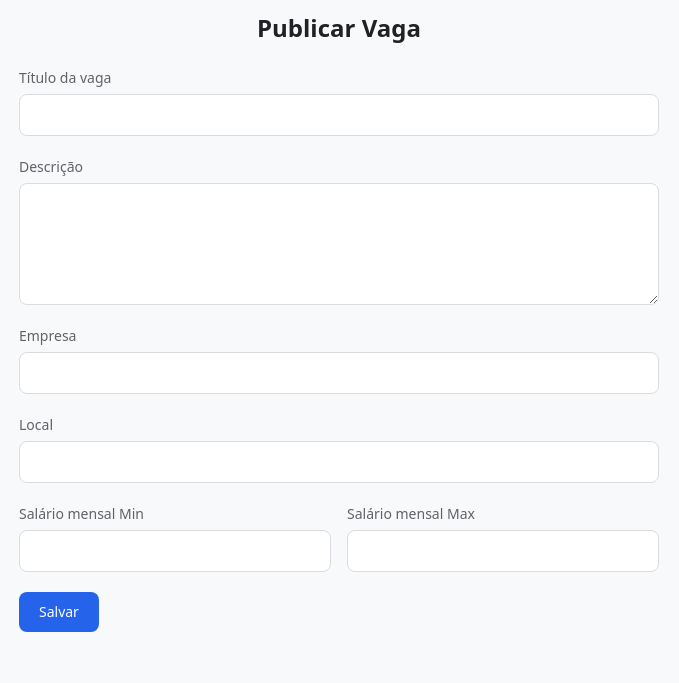
Test: JobForm › shows error when salary max <= min
Type "Dev" into the field labelled "Título da vaga".
click(339, 115); type("Dev")  # box x1=19 y1=94 x2=659 y2=136
Type "Uma descricao longa o suficiente" into the text box labelled "Descrição".
click(339, 244); type("Uma descricao longa o suficiente")  # box x1=19 y1=183 x2=659 y2=305
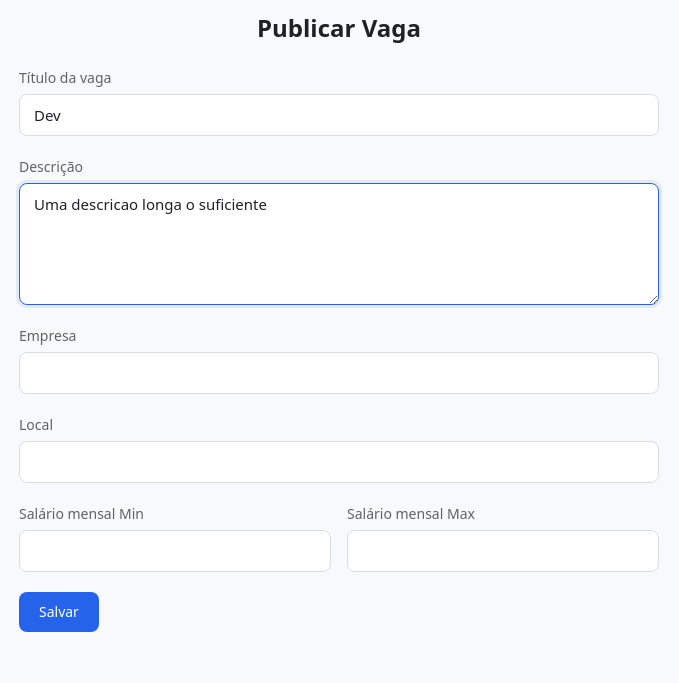
Type "Co" into the field labelled "Empresa".
click(339, 373); type("Co")  # box x1=19 y1=352 x2=659 y2=394
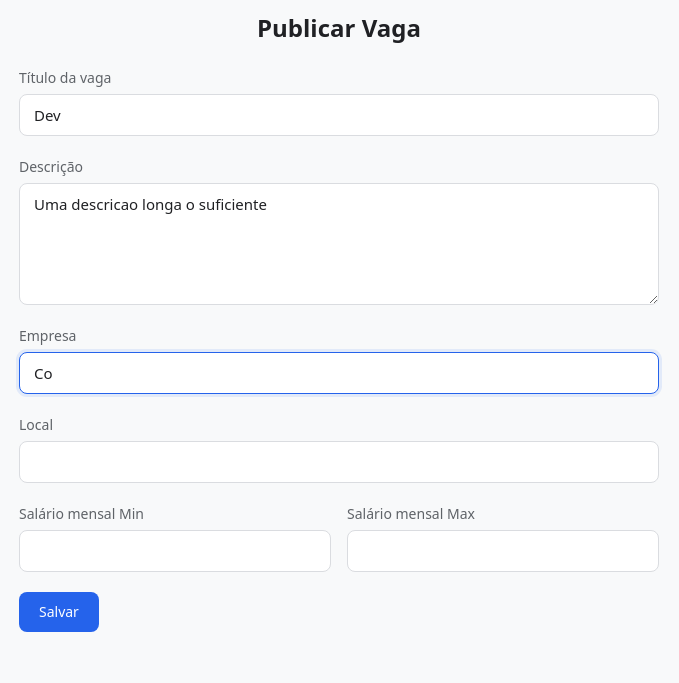
Type "SP" into the field labelled "Local".
click(339, 462); type("SP")  # box x1=19 y1=441 x2=659 y2=483
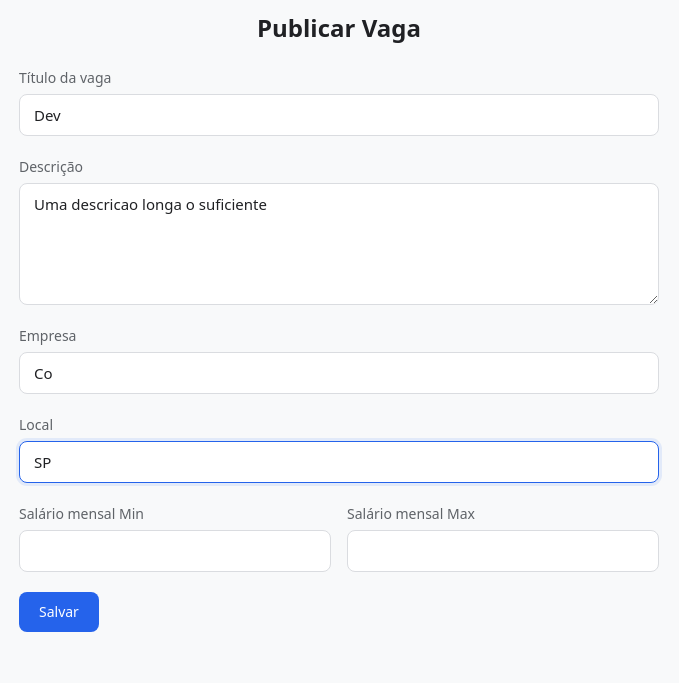
Type "10000" into the number field labelled "Salário mensal Min".
click(175, 551); type("10000")  # box x1=19 y1=530 x2=331 y2=572
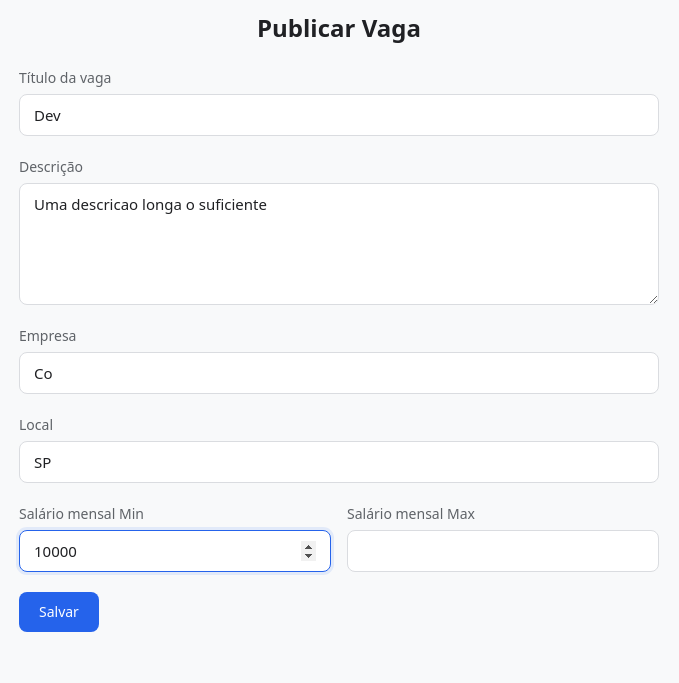
Type "5000" into the number field labelled "Salário mensal Max".
click(503, 551); type("5000")  # box x1=347 y1=530 x2=659 y2=572
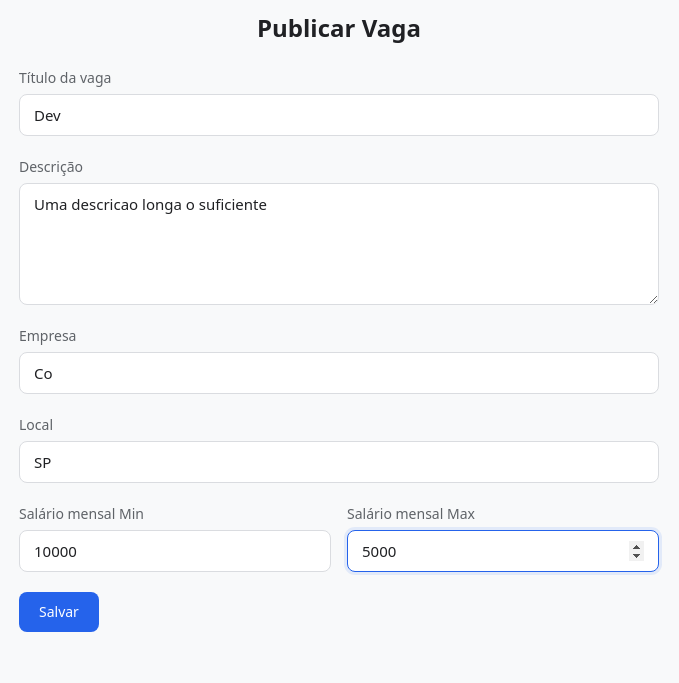
Click the button "Salvar".
click(59, 612)  # box x1=19 y1=592 x2=99 y2=632
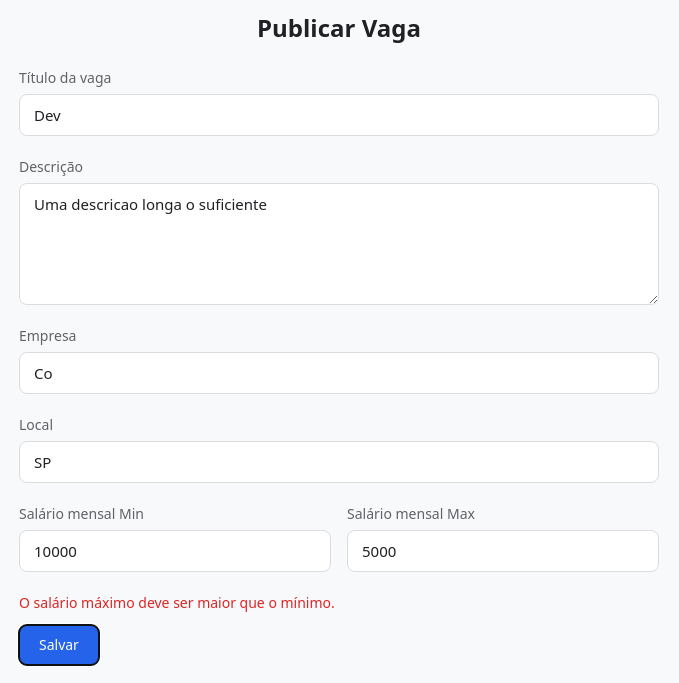
Check: the text "O salário máximo deve ser maior que o mínimo." is shown, box x1=19 y1=593 x2=335 y2=612
